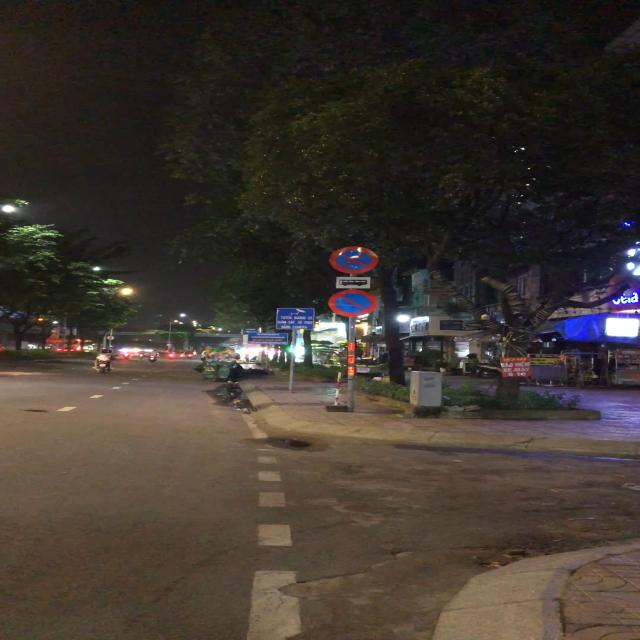Bien bao cam do xe: (327, 290, 380, 318)
Bien bao cam dung xe va do xe: (329, 244, 379, 276)
